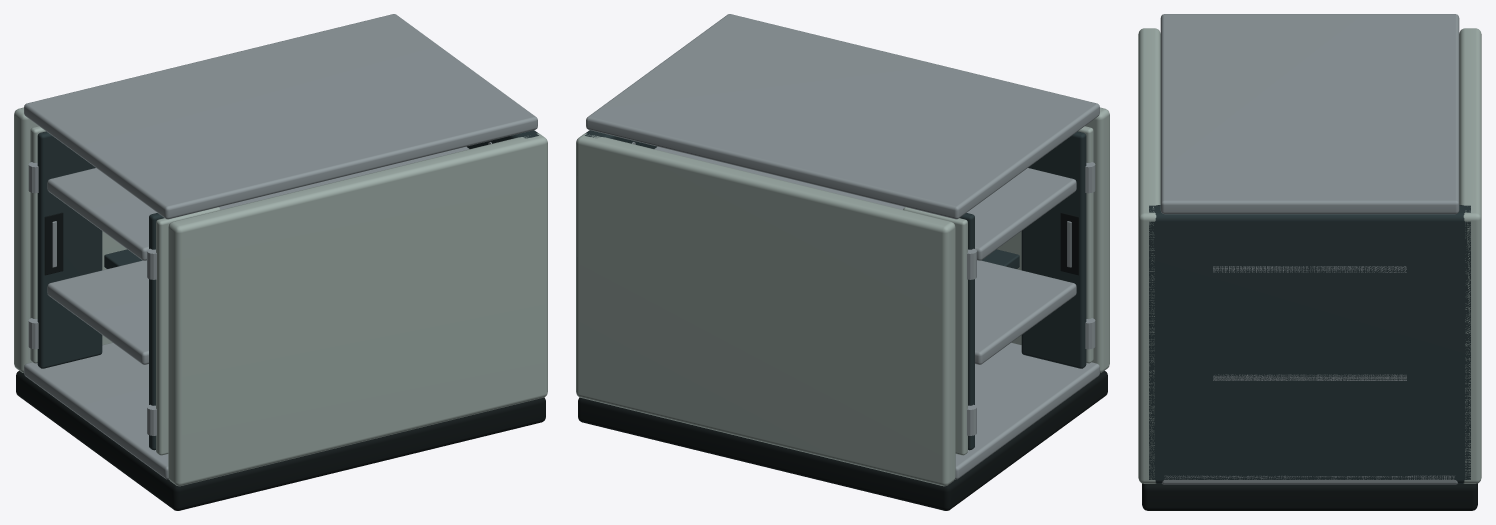
Rendered from satellite-cabinet.glb.
3 renders of one model, left to right at view 1: azimuth 30°, elevation 25°; view 2: azimuth 150°, elevation 25°; view 3: azimuth 270°, elevation 25°, orthographic. The views are drawn at different scales.
Parts seen in each view (by area): view 1: satellite-cabinet 01 warm ceramic enamel, satellite-cabinet 03 satin stainless, satellite-cabinet 04 EPDM gasket, satellite-cabinet 02 graphite powdercoat; view 2: satellite-cabinet 01 warm ceramic enamel, satellite-cabinet 03 satin stainless, satellite-cabinet 04 EPDM gasket, satellite-cabinet 02 graphite powdercoat; view 3: satellite-cabinet 02 graphite powdercoat, satellite-cabinet 03 satin stainless, satellite-cabinet 01 warm ceramic enamel, satellite-cabinet 04 EPDM gasket.
Boxes of the visible parts, x1,y1,x2,y2 form: satellite-cabinet 01 warm ceramic enamel: [14, 107, 547, 486]; satellite-cabinet 03 satin stainless: [24, 14, 537, 479]; satellite-cabinet 04 EPDM gasket: [16, 212, 545, 510]; satellite-cabinet 02 graphite powdercoat: [37, 130, 538, 450]; satellite-cabinet 01 warm ceramic enamel: [576, 107, 1109, 486]; satellite-cabinet 03 satin stainless: [586, 14, 1099, 479]; satellite-cabinet 04 EPDM gasket: [578, 212, 1107, 510]; satellite-cabinet 02 graphite powdercoat: [585, 130, 1086, 450]; satellite-cabinet 02 graphite powdercoat: [1149, 205, 1470, 483]; satellite-cabinet 03 satin stainless: [1160, 14, 1459, 484]; satellite-cabinet 01 warm ceramic enamel: [1138, 28, 1481, 483]; satellite-cabinet 04 EPDM gasket: [1142, 483, 1477, 510].
Size of the model in its own units: 1.9 by 1.44 by 1.44.
Materials: 5 (4 with a texture image).
